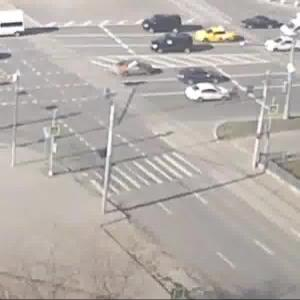car: (154, 31, 203, 58), (98, 59, 153, 79), (1, 8, 28, 43), (173, 70, 226, 86), (241, 15, 285, 34), (197, 25, 238, 45), (142, 15, 182, 35), (192, 83, 228, 103), (270, 33, 300, 57)
